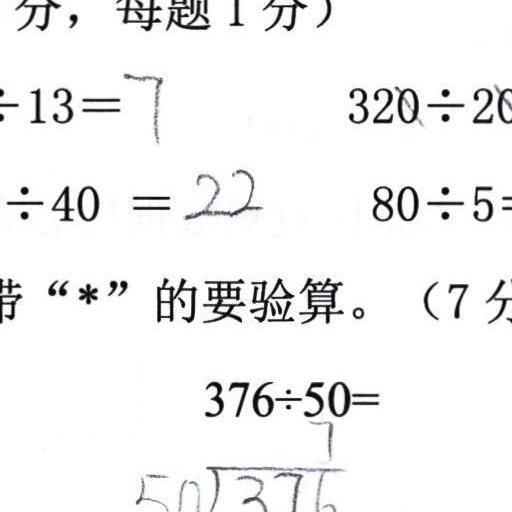ans: (182, 161, 262, 220), (120, 66, 163, 144)
